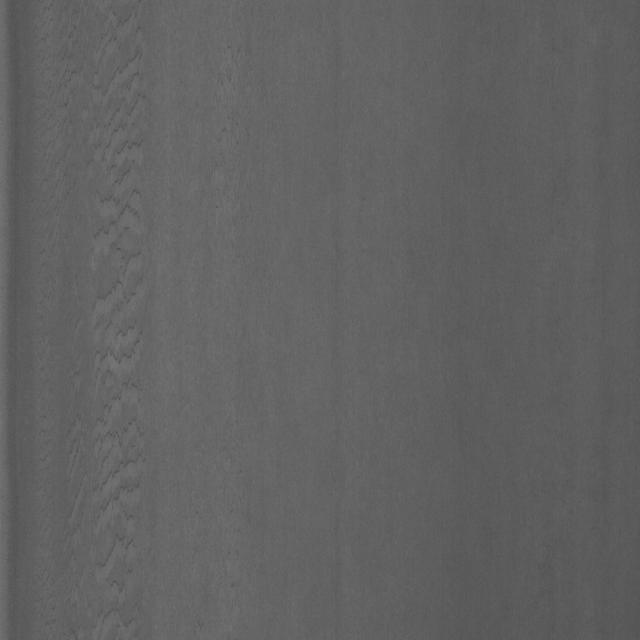inclusion: (69, 4, 163, 606)
